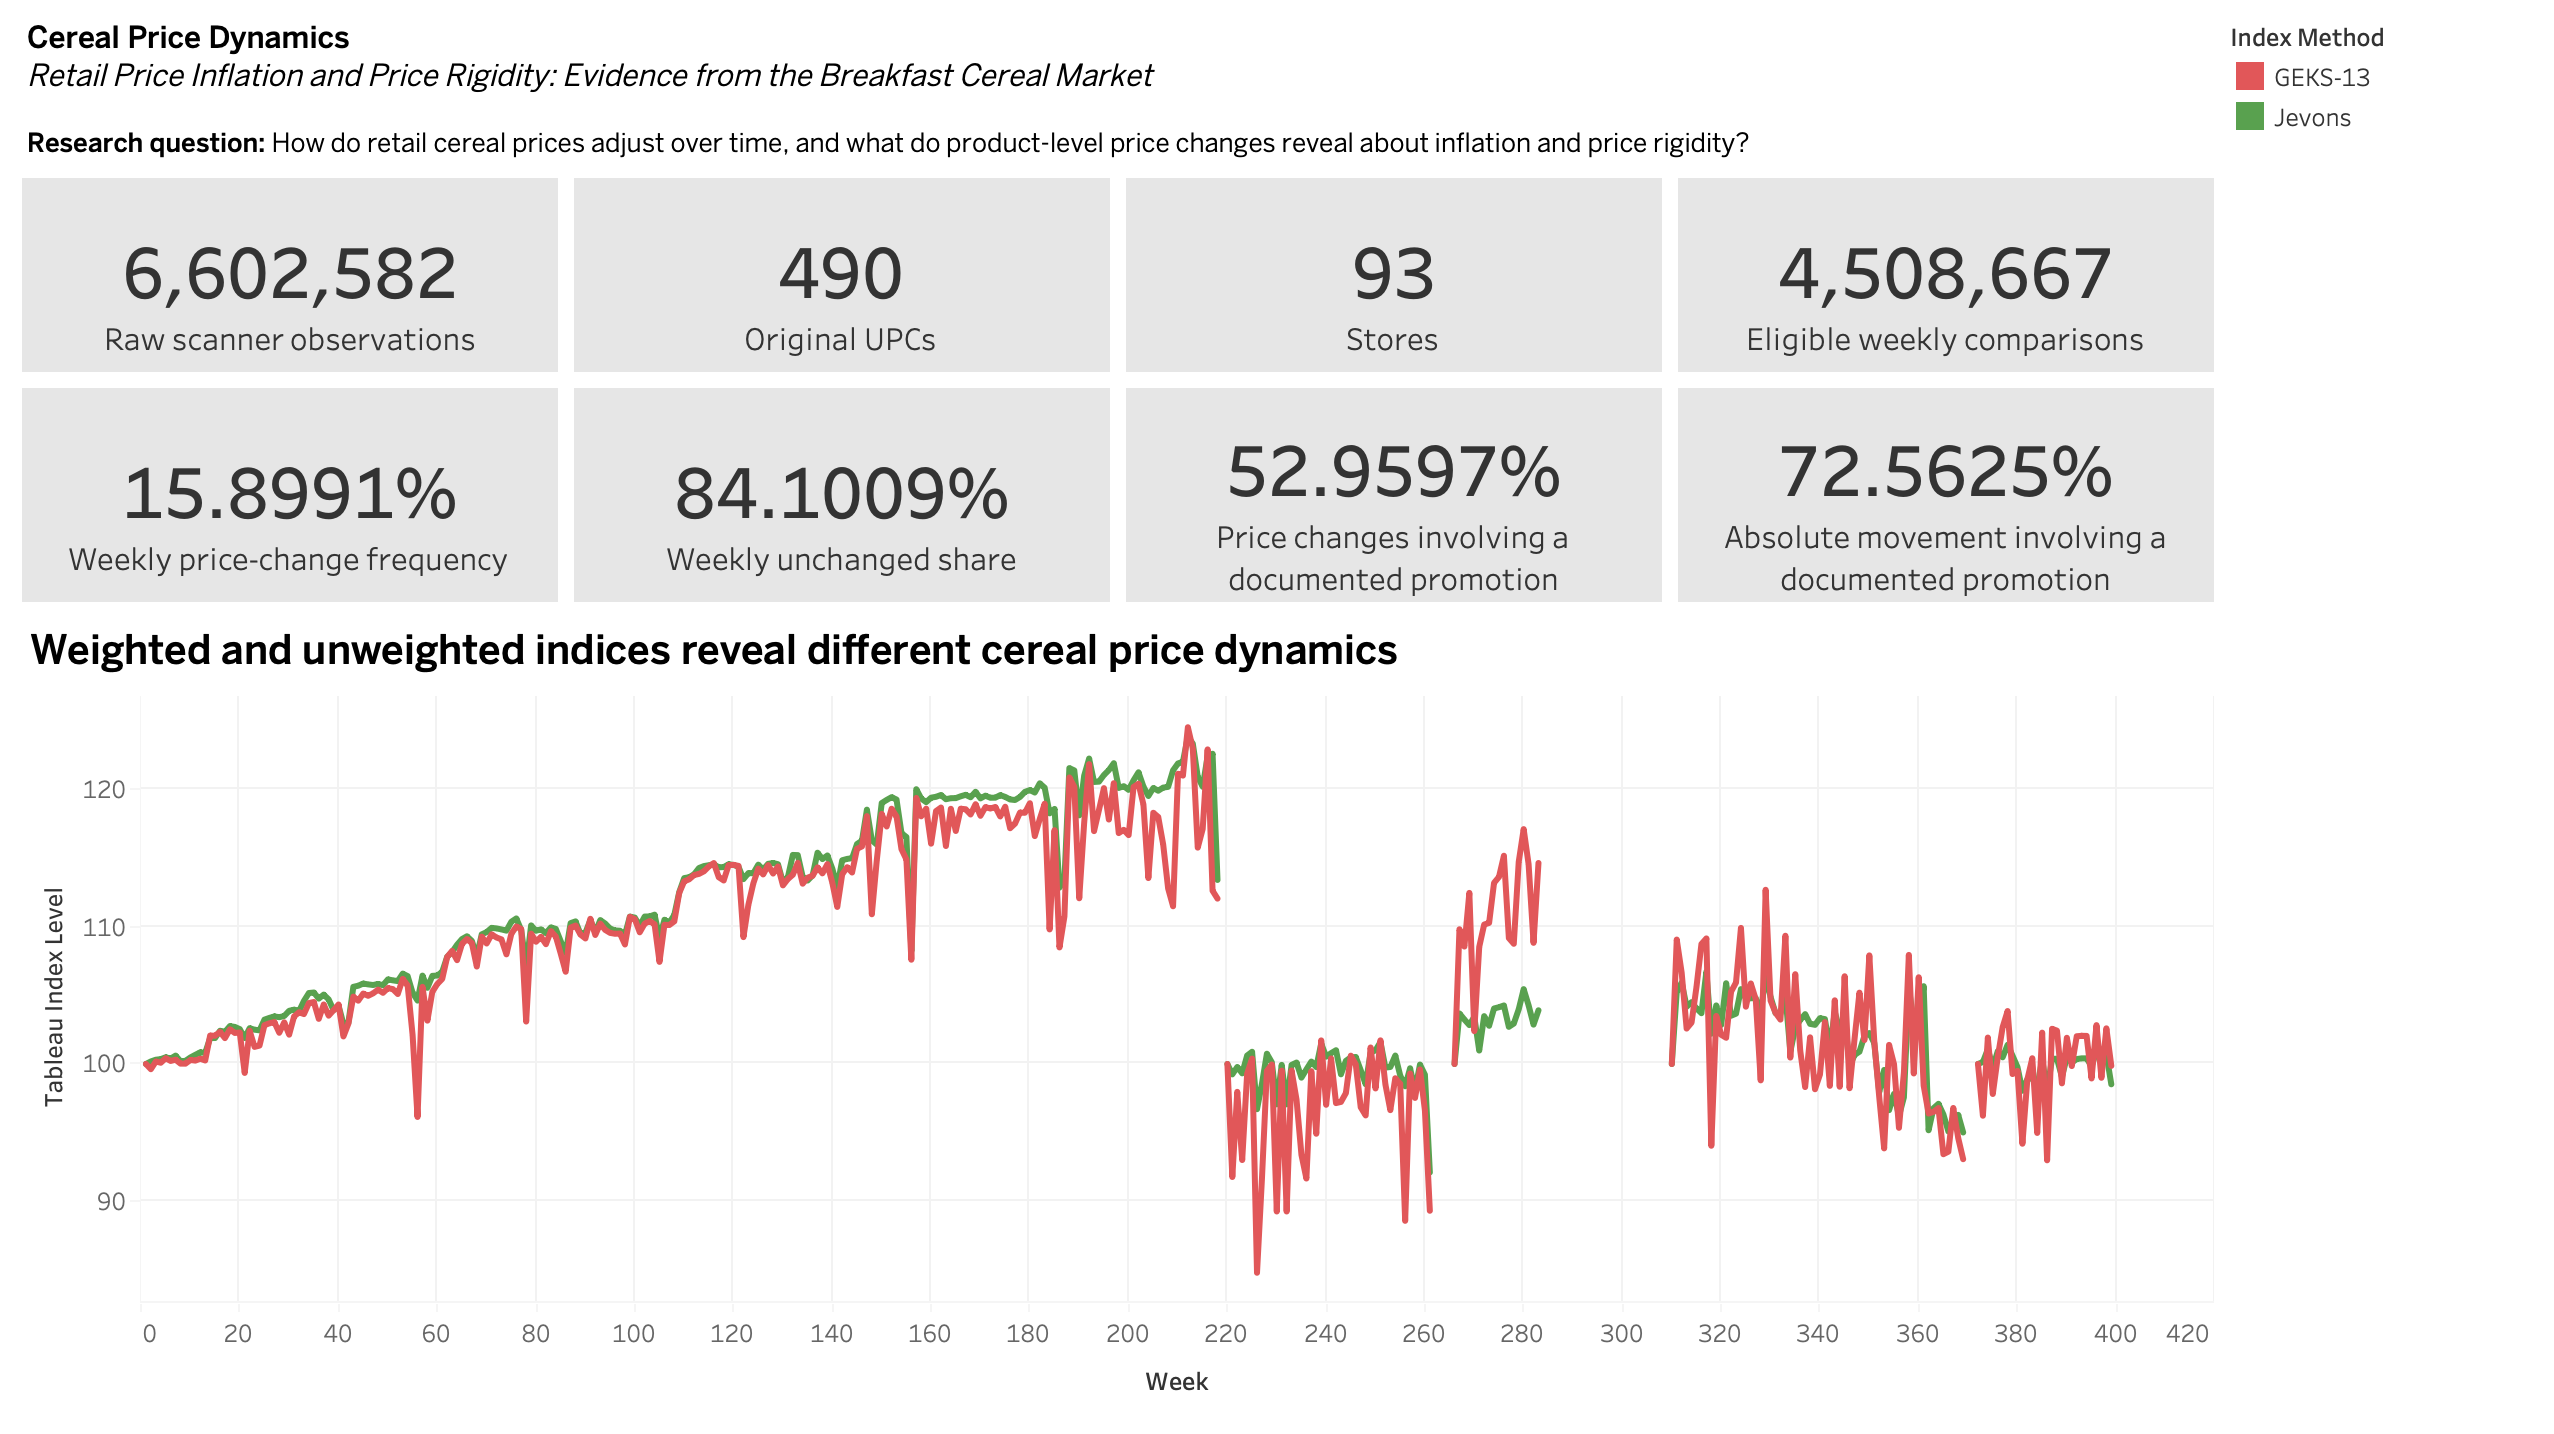

This screenshot's page, from the dashboard's own definition file:
{"tool":"tableau","page":{"name":"01 - Research Overview","canvas":[1280,720],"ordinal":0},"visuals":[{"type":"text","box":[8,8,1104,79]},{"type":"legend","title":"Index - GEKS vs Jevons","param":"[federated.1gan8jo09448nq12ugkkt1fg7fnk].[none:index_method:nk]","box":[1112,8,160,66]},{"type":"worksheet","title":"KPI - Raw Observations","mark":"Automatic","box":[8,87,276,105]},{"type":"worksheet","title":"KPI - Original UPCs","mark":"Automatic","box":[284,87,276,105]},{"type":"worksheet","title":"KPI - Stores","mark":"Automatic","box":[560,87,276,105]},{"type":"worksheet","title":"KPI - Eligible Comparisons","mark":"Automatic","box":[836,87,276,105]},{"type":"worksheet","title":"KPI - Price Changed","mark":"Automatic","box":[8,192,276,115]},{"type":"worksheet","title":"KPI - Price Unchanged","mark":"Automatic","box":[284,192,276,115]},{"type":"worksheet","title":"KPI - Promotion Share Changes","mark":"Automatic","box":[560,192,276,115]},{"type":"worksheet","title":"KPI - Promotion Share Movement","mark":"Automatic","box":[836,192,276,115]},{"type":"worksheet","title":"Index - GEKS vs Jevons","mark":"Automatic","rows":["tableau_index_level"],"cols":["week"],"box":[8,307,1104,405]}]}

Visuals, with their boxes in screenshot pixels (x1, y1, x2, y2), scaled from the page's 1280x720 canvas onto the 2554x1434 screenshot:
text: {"x1": 16, "y1": 16, "x2": 2219, "y2": 173}
"Index - GEKS vs Jevons" legend: {"x1": 2219, "y1": 16, "x2": 2538, "y2": 147}
"KPI - Raw Observations" worksheet: {"x1": 16, "y1": 173, "x2": 567, "y2": 382}
"KPI - Original UPCs" worksheet: {"x1": 567, "y1": 173, "x2": 1117, "y2": 382}
"KPI - Stores" worksheet: {"x1": 1117, "y1": 173, "x2": 1668, "y2": 382}
"KPI - Eligible Comparisons" worksheet: {"x1": 1668, "y1": 173, "x2": 2219, "y2": 382}
"KPI - Price Changed" worksheet: {"x1": 16, "y1": 382, "x2": 567, "y2": 611}
"KPI - Price Unchanged" worksheet: {"x1": 567, "y1": 382, "x2": 1117, "y2": 611}
"KPI - Promotion Share Changes" worksheet: {"x1": 1117, "y1": 382, "x2": 1668, "y2": 611}
"KPI - Promotion Share Movement" worksheet: {"x1": 1668, "y1": 382, "x2": 2219, "y2": 611}
"Index - GEKS vs Jevons" worksheet: {"x1": 16, "y1": 611, "x2": 2219, "y2": 1418}
